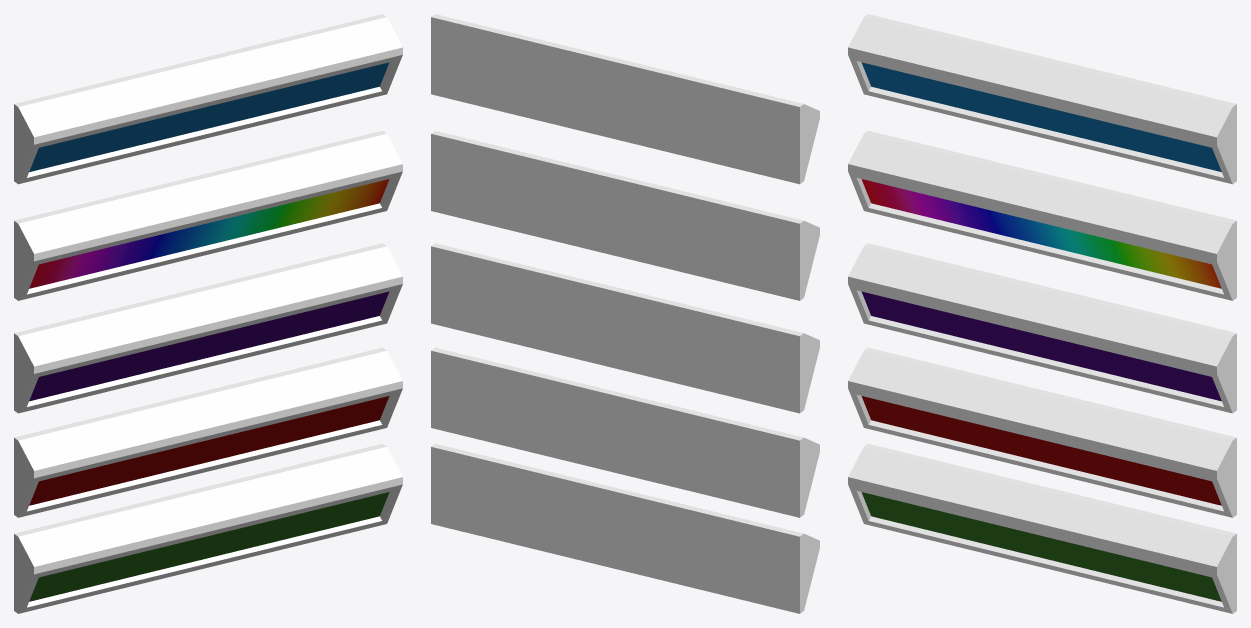
File: Downlights.fbx
3 renders of one model, left to right at view 1: azimuth 30°, elevation 25°; view 2: azimuth 150°, elevation 25°; view 3: azimuth 330°, elevation 25°, orthographic.
Parts seen in each view (by area): view 1: pasted__pasted__pasted__pasted__pasted__pCube1, pasted__pasted__pCube1, pasted__pasted__pasted__pCube1, pasted__pasted__pasted__pasted__pCube1, pasted__pCube1; view 2: pasted__pasted__pCube1, pasted__pCube1, pasted__pasted__pasted__pasted__pCube1, pasted__pasted__pasted__pCube1, pasted__pasted__pasted__pasted__pasted__pCube1; view 3: pasted__pasted__pasted__pasted__pasted__pCube1, pasted__pasted__pCube1, pasted__pasted__pasted__pCube1, pasted__pasted__pasted__pasted__pCube1, pasted__pCube1.
Part boxes in pixels (<box>): pasted__pasted__pasted__pasted__pasted__pCube1: <box>14,14,402,184</box>; pasted__pasted__pCube1: <box>14,347,402,517</box>; pasted__pasted__pasted__pCube1: <box>14,243,402,413</box>; pasted__pasted__pasted__pasted__pCube1: <box>14,130,402,300</box>; pasted__pCube1: <box>14,443,402,613</box>; pasted__pasted__pCube1: <box>431,347,819,517</box>; pasted__pCube1: <box>431,443,819,613</box>; pasted__pasted__pasted__pasted__pCube1: <box>431,130,819,300</box>; pasted__pasted__pasted__pCube1: <box>431,243,819,413</box>; pasted__pasted__pasted__pasted__pasted__pCube1: <box>431,14,819,184</box>; pasted__pasted__pasted__pasted__pasted__pCube1: <box>848,14,1236,184</box>; pasted__pasted__pCube1: <box>848,347,1236,517</box>; pasted__pasted__pasted__pCube1: <box>848,243,1236,413</box>; pasted__pasted__pasted__pasted__pCube1: <box>848,130,1236,300</box>; pasted__pCube1: <box>848,443,1236,613</box>.
Bounding box in the file's own units: 50 × 65.66 × 4.73.
Materials: 5 (5 with a texture image).
